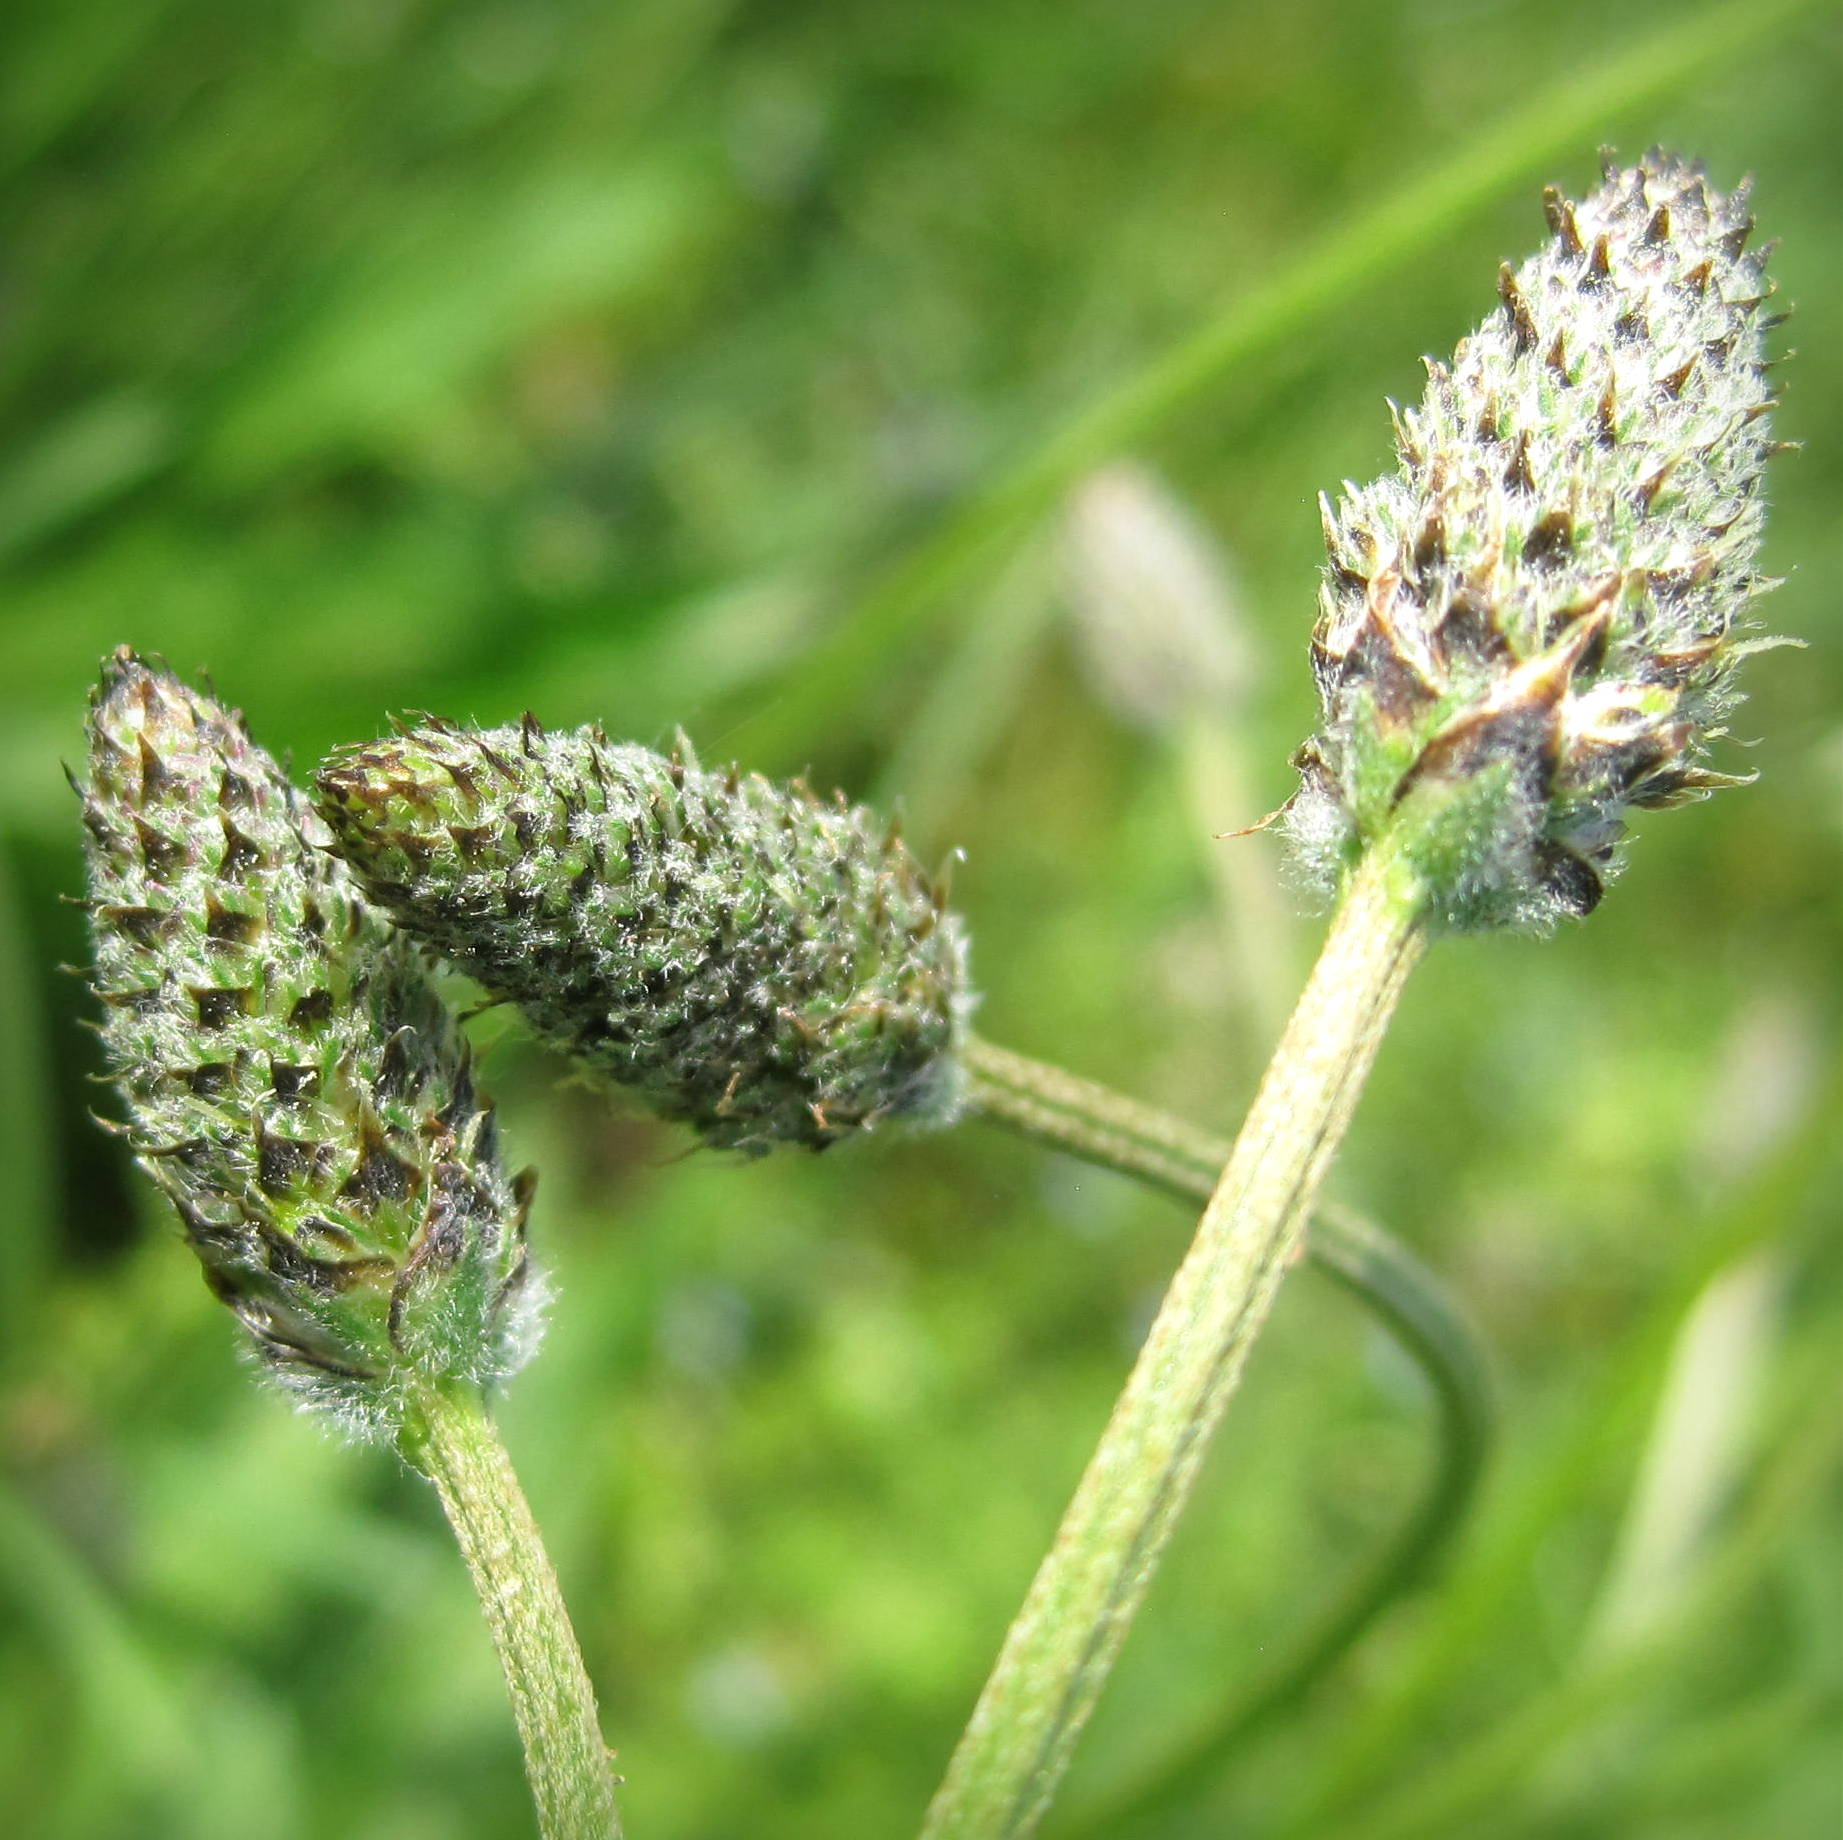buckhorn plantain: (1201, 56, 1796, 1284), (44, 618, 606, 1683), (349, 640, 1107, 1205)
